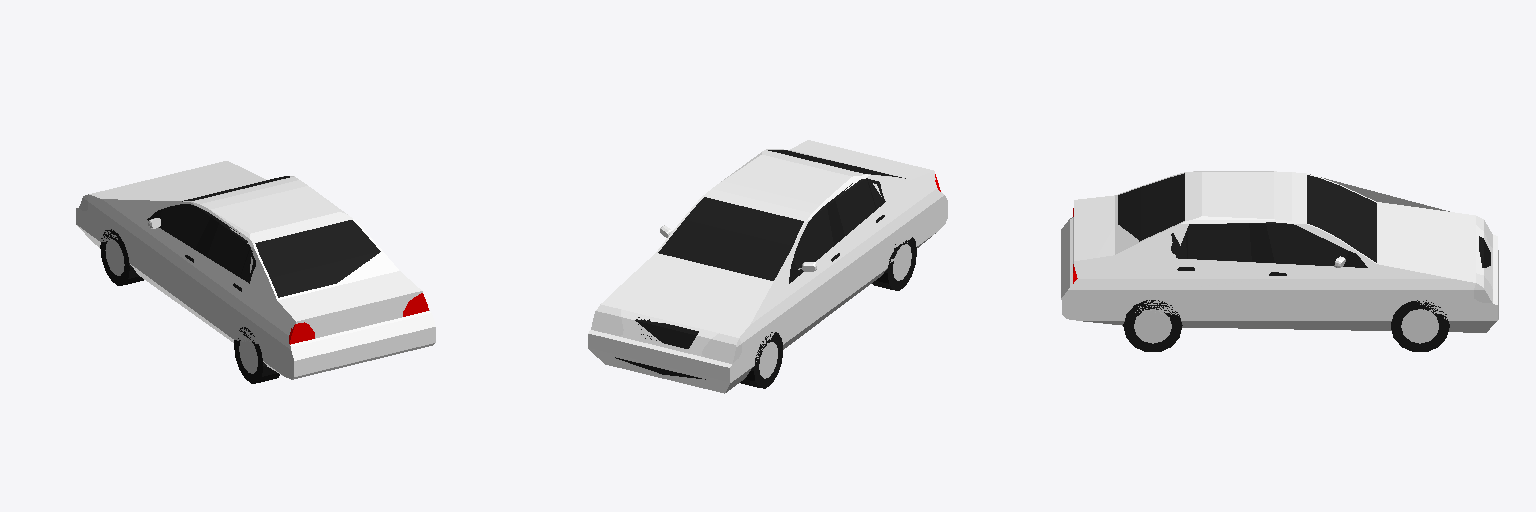
Rendered from masina.obj.
3 views of the same model, side by side, from view 1: azimuth 30°, elevation 25°; view 2: azimuth 150°, elevation 25°; view 3: azimuth 270°, elevation 25° (orthographic).
Parts seen in each view (by area): view 1: Mesh10 CarCore_2_1 Car_Sedan1 Model, Mesh7 CarCore_1_1 Car_Sedan1 Model, Mesh14 FrontDoor_2_1 Car_Sedan1 Model, Mesh12 BackDoor1 Car_Sedan1 Model, Mesh8 WheelFront Car_Sedan1 Model, Mesh9 WheelBack2 CarCore_2_1 Car_Sedan1 Model; view 2: Mesh10 CarCore_2_1 Car_Sedan1 Model, Mesh7 CarCore_1_1 Car_Sedan1 Model, Mesh14 FrontDoor_2_1 Car_Sedan1 Model, Mesh12 BackDoor1 Car_Sedan1 Model, Mesh8 WheelFront Car_Sedan1 Model, Mesh9 WheelBack2 CarCore_2_1 Car_Sedan1 Model; view 3: Mesh7 CarCore_1_1 Car_Sedan1 Model, Mesh10 CarCore_2_1 Car_Sedan1 Model, Mesh17 FrontDoorPass1 Car_Sedan1 Model, Mesh15 BackDoorPass1 Car_Sedan1 Model, Mesh11 WheelFront1 Car_Sedan1 Model, Mesh6 WheelBack1 CarCore_1_1 Car_Sedan1 Model.
Part boxes in pixels (x1,y1,x2,y2): Mesh10 CarCore_2_1 Car_Sedan1 Model: (76,178,364,379); Mesh7 CarCore_1_1 Car_Sedan1 Model: (158,161,435,361); Mesh14 FrontDoor_2_1 Car_Sedan1 Model: (136,204,215,318); Mesh12 BackDoor1 Car_Sedan1 Model: (193,218,255,339); Mesh8 WheelFront Car_Sedan1 Model: (100,229,143,285); Mesh9 WheelBack2 CarCore_2_1 Car_Sedan1 Model: (234,327,279,383); Mesh10 CarCore_2_1 Car_Sedan1 Model: (659,155,947,393); Mesh7 CarCore_1_1 Car_Sedan1 Model: (588,140,870,378); Mesh14 FrontDoor_2_1 Car_Sedan1 Model: (786,202,846,347); Mesh12 BackDoor1 Car_Sedan1 Model: (830,178,891,305); Mesh8 WheelFront Car_Sedan1 Model: (740,332,782,388); Mesh9 WheelBack2 CarCore_2_1 Car_Sedan1 Model: (872,237,916,290); Mesh7 CarCore_1_1 Car_Sedan1 Model: (1061,194,1498,332); Mesh10 CarCore_2_1 Car_Sedan1 Model: (1061,171,1498,283); Mesh17 FrontDoorPass1 Car_Sedan1 Model: (1258,222,1378,330); Mesh15 BackDoorPass1 Car_Sedan1 Model: (1166,223,1264,328); Mesh11 WheelFront1 Car_Sedan1 Model: (1391,300,1449,351); Mesh6 WheelBack1 CarCore_1_1 Car_Sedan1 Model: (1123,300,1182,351).
Bounding box in the file's own units: 1.96 × 1.49 × 4.78.